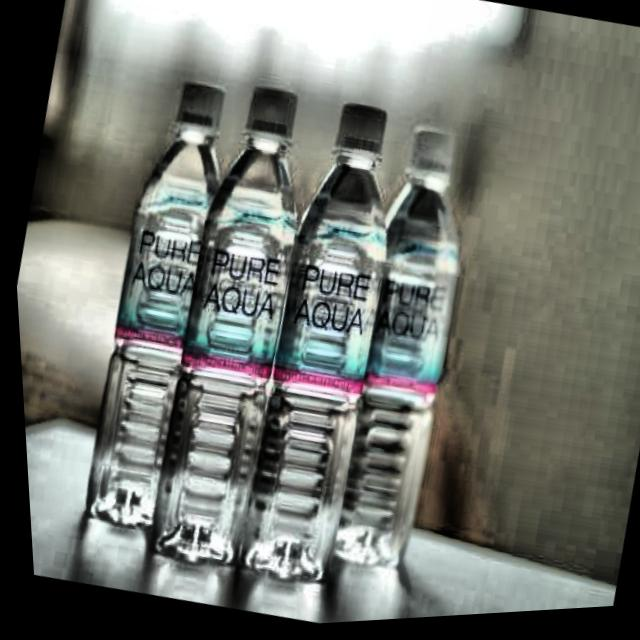Bottles: (118, 65, 346, 598), (206, 93, 430, 598)
